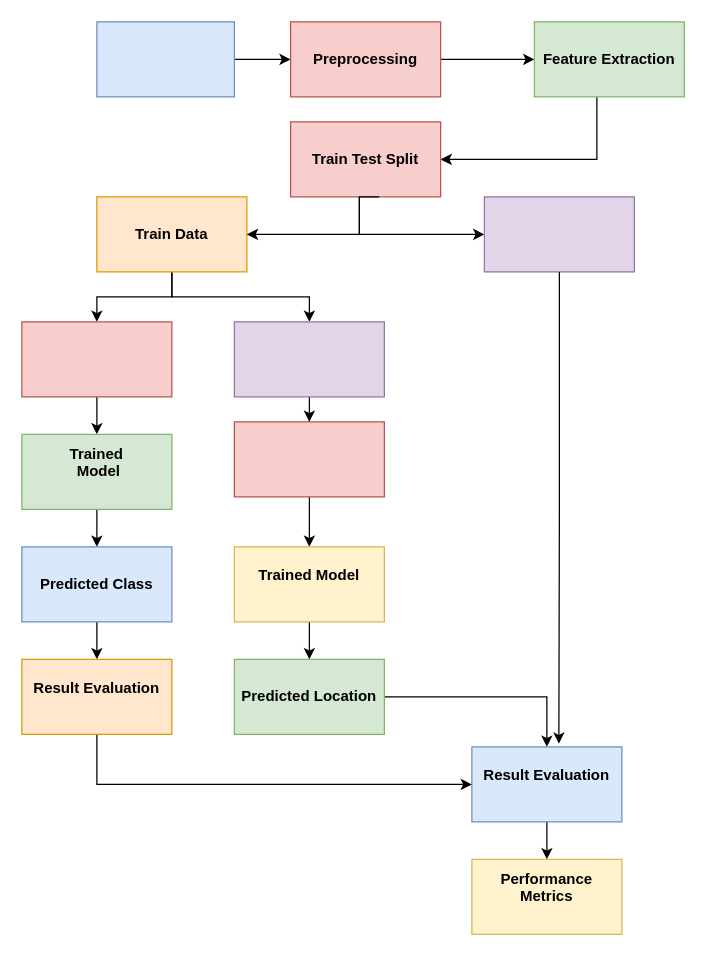
Image size: 706x956. Some labels were removed from this diagram. Each missing label, with the box of its shape:
Classification Model: (21, 321, 172, 397)
Data Collection: (96, 21, 234, 97)
Regression Model: (233, 421, 384, 497)
Reshape: (233, 321, 384, 397)
Test Data: (483, 196, 634, 272)
